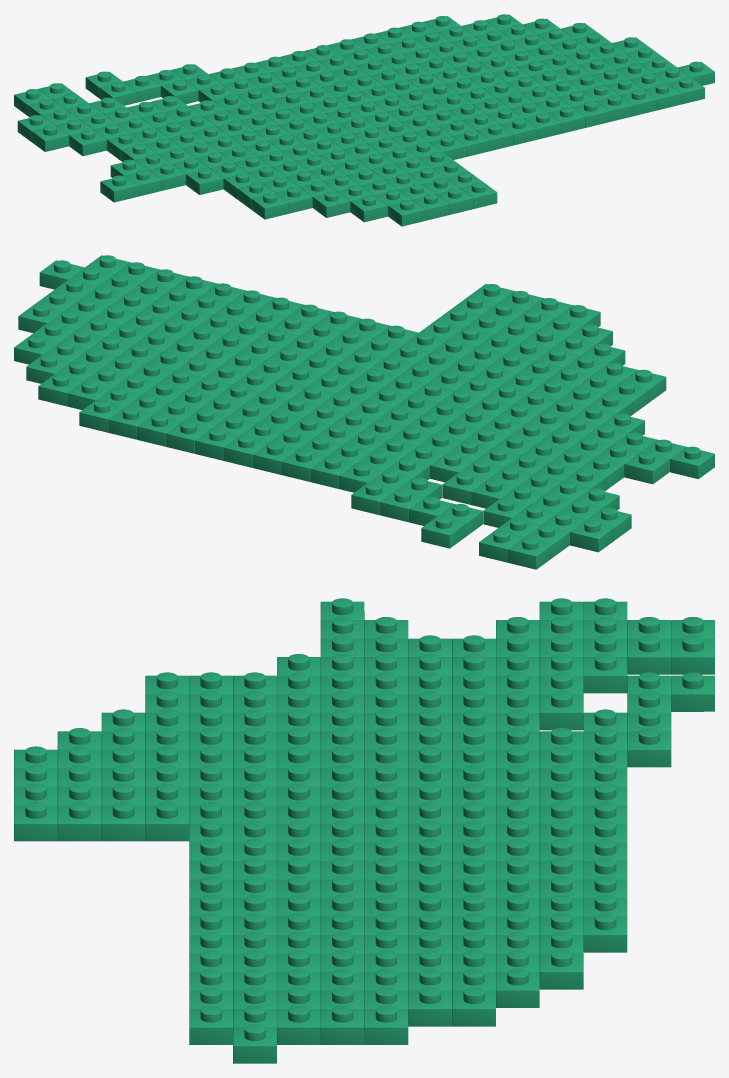
The model's file is Mongolia.fbx.
The picture shows the model from 3 angles, top to bottom: view 1: azimuth 30°, elevation 25°; view 2: azimuth 150°, elevation 25°; view 3: azimuth 270°, elevation 25°; orthographic projection. The views are drawn at different scales.
Visible parts, largest first — view 1: Cube_133; view 2: Cube_133; view 3: Cube_133.
Part boxes in pixels (x1,y1,x2,y2): Cube_133: (14,14,714,226); Cube_133: (14,255,714,569); Cube_133: (14,598,714,1063).
Size of the model in its own units: 2400 by 65.03 by 1600.
